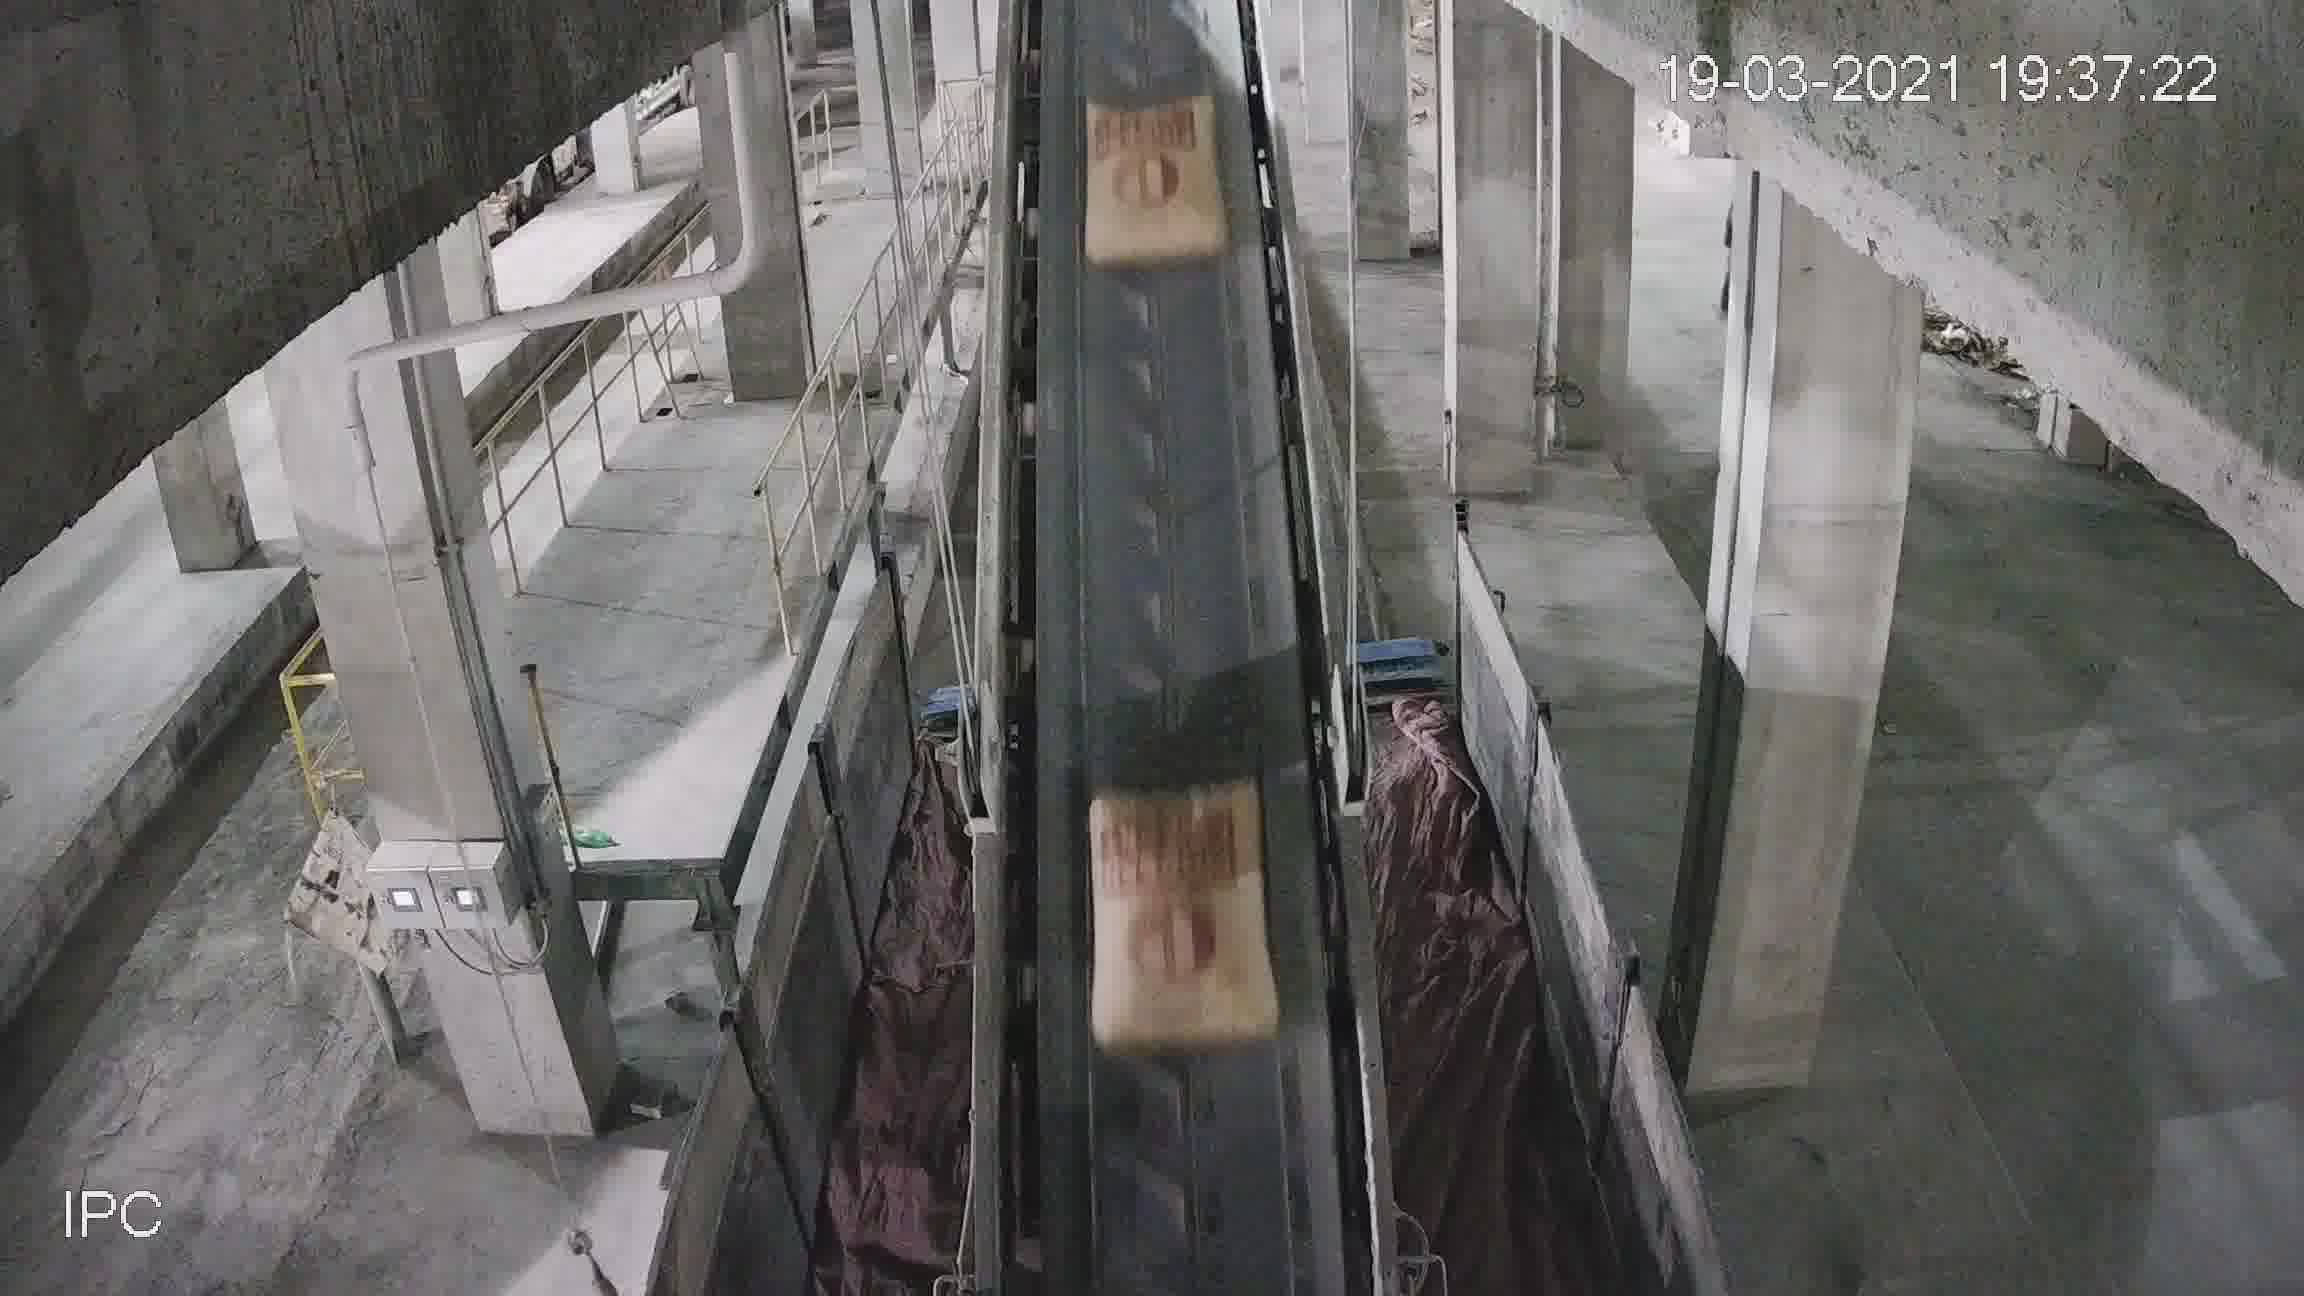bag: (1093, 785, 1269, 1054), (1082, 106, 1225, 264)
belt: (980, 182, 1377, 1296)
